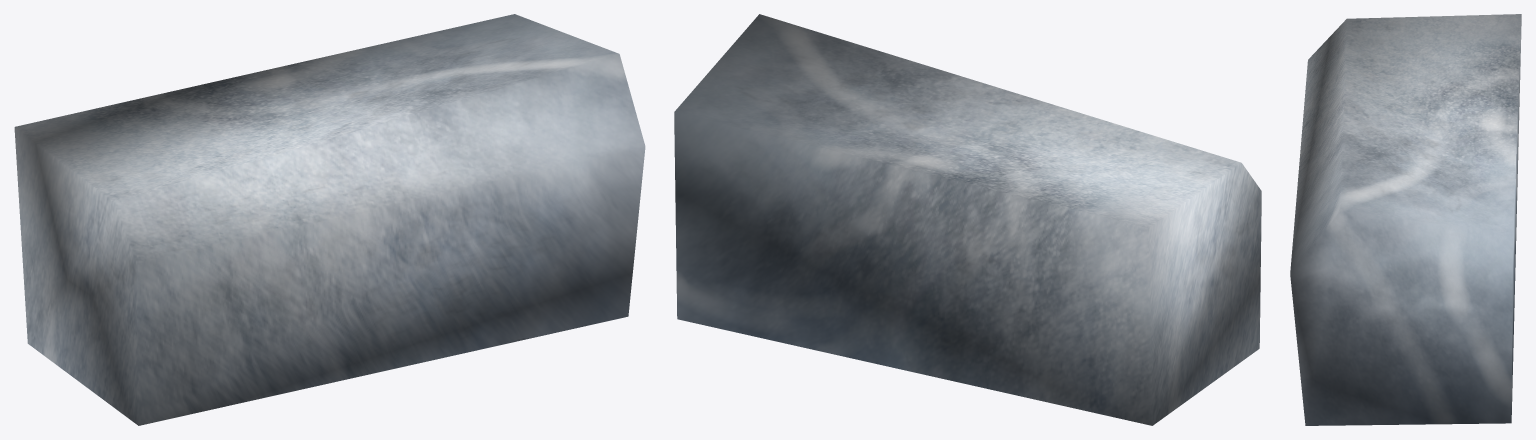
Rendered from md_alley_brick_01_v2.fbx.
3 renders of one model, left to right at view 1: azimuth 30°, elevation 25°; view 2: azimuth 150°, elevation 25°; view 3: azimuth 270°, elevation 25°, orthographic. The views are drawn at different scales.
Visible parts, largest first — view 1: pCube1; view 2: pCube1; view 3: pCube1.
Boxes of the visible parts, box(x1,y1,x2,y2) form: pCube1: box(14, 14, 645, 425); pCube1: box(674, 14, 1261, 425); pCube1: box(1290, 14, 1521, 425).
Bounding box in the file's own units: 30 × 13.98 × 13.39.
Materials: 1 (1 with a texture image).
